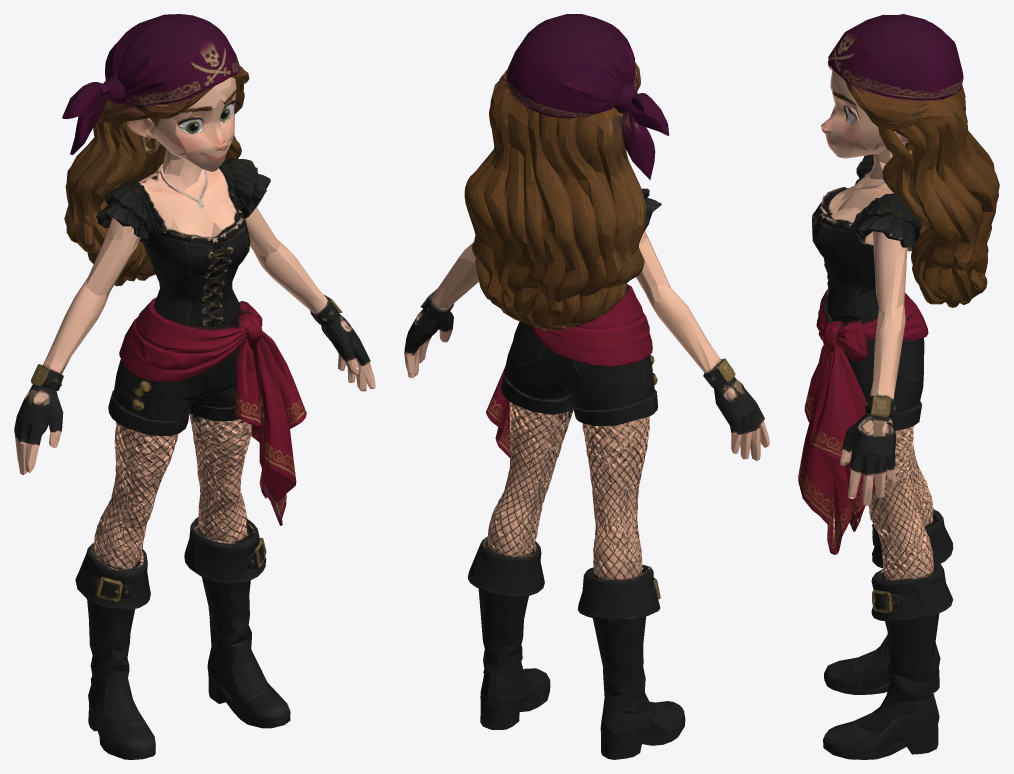
Rendered from abi_pirate.fbx.
The picture shows the model from 3 angles, left to right: view 1: azimuth 30°, elevation 25°; view 2: azimuth 150°, elevation 25°; view 3: azimuth 270°, elevation 25°; orthographic projection.
Visible parts, largest first — view 1: abi_pirate; view 2: abi_pirate; view 3: abi_pirate.
Boxes of the visible parts, x1,y1,x2,y2 form: abi_pirate: [14, 14, 375, 759]; abi_pirate: [404, 14, 769, 759]; abi_pirate: [798, 14, 999, 759].
Size of the model in its own units: 0.8592 by 1.65 by 0.4328.
Materials: 1 (1 with a texture image).
